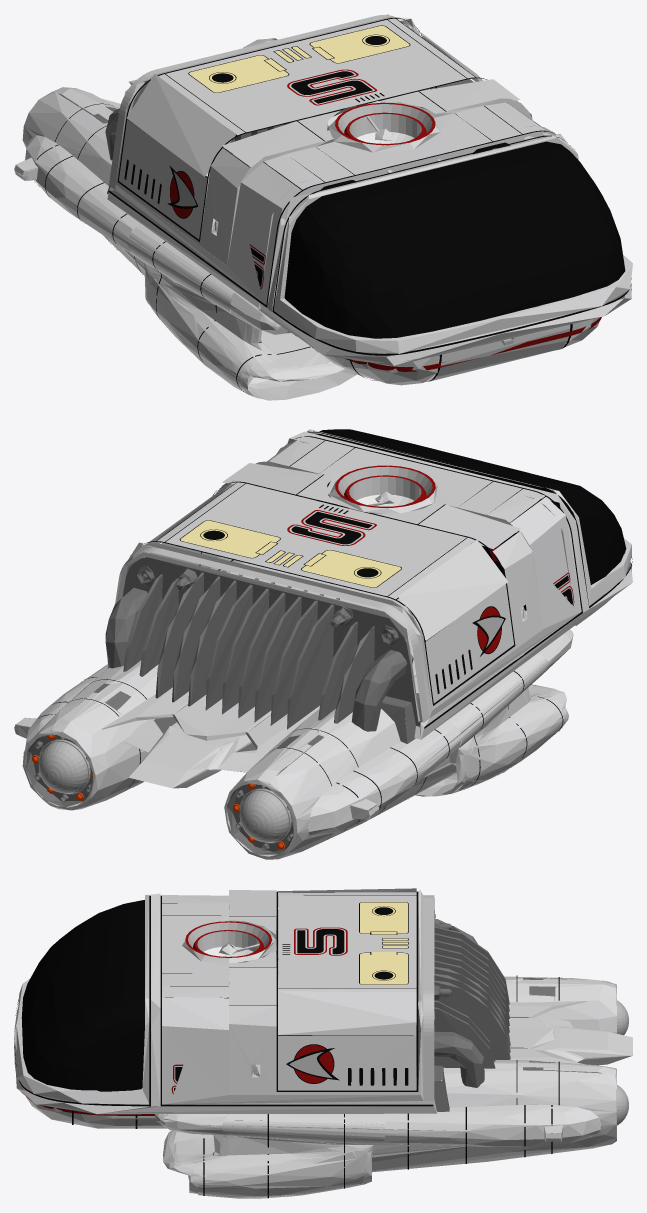
Rendered from SpaceShip3LP.fbx.
3 renders of one model, top to bottom at view 1: azimuth 30°, elevation 25°; view 2: azimuth 150°, elevation 25°; view 3: azimuth 270°, elevation 25°, orthographic. The views are drawn at different scales.
Visible parts, largest first — view 1: White-Dirt, Glass, White-Dir0, Black, Yellow-Dir, Red-Dirty, BlkYllw-Ri, DarkGrey-D, Object02, Grey-Dirty; view 2: White-Dirt, White-Dir0, DarkGrey-D, Black, Glass, Grey-Dirty, Yellow-Dir, BlkYllw-Ri, Red-Dirty, Object02; view 3: White-Dirt, White-Dir0, Glass, DarkGrey-D, Black, Yellow-Dir, BlkYllw-Ri, Grey-Dirty, Red-Dirty, Object02.
Boxes of the visible parts, bbox=[...] form: White-Dirt: bbox=[107, 14, 632, 365]; Glass: bbox=[284, 141, 625, 338]; White-Dir0: bbox=[14, 38, 599, 400]; Black: bbox=[34, 18, 631, 391]; Yellow-Dir: bbox=[189, 25, 409, 92]; Red-Dirty: bbox=[170, 69, 601, 371]; BlkYllw-Ri: bbox=[109, 15, 427, 189]; DarkGrey-D: bbox=[32, 23, 631, 362]; Object02: bbox=[349, 114, 421, 143]; Grey-Dirty: bbox=[79, 104, 432, 206]; White-Dirt: bbox=[107, 429, 632, 739]; White-Dir0: bbox=[14, 567, 573, 859]; DarkGrey-D: bbox=[26, 557, 632, 854]; Black: bbox=[38, 431, 632, 839]; Glass: bbox=[316, 429, 626, 584]; Grey-Dirty: bbox=[38, 466, 503, 843]; Yellow-Dir: bbox=[180, 520, 401, 587]; BlkYllw-Ri: bbox=[115, 548, 429, 722]; Red-Dirty: bbox=[287, 465, 574, 653]; Object02: bbox=[349, 476, 421, 521]; White-Dirt: bbox=[14, 888, 437, 1114]; White-Dir0: bbox=[21, 976, 632, 1198]; Glass: bbox=[21, 900, 144, 1091]; DarkGrey-D: bbox=[14, 910, 616, 1112]; Black: bbox=[14, 891, 559, 1198]; Yellow-Dir: bbox=[360, 902, 407, 984]; BlkYllw-Ri: bbox=[423, 895, 434, 1100]; Grey-Dirty: bbox=[188, 922, 628, 1125]; Red-Dirty: bbox=[26, 921, 347, 1115]; Object02: bbox=[197, 931, 259, 956].
Bounding box in the file's own units: 150 × 96.01 × 262.
